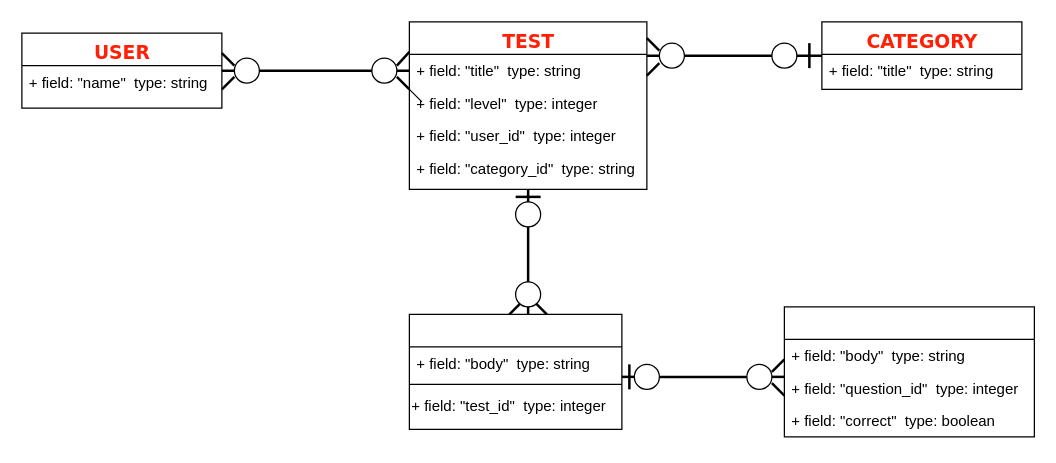
The diagram is 1056 pixels wide and 463 high, and some of its shapes have lost their labels. Each missing label, with the box of its shape:
ANSWER: (783, 306, 1034, 437)
QUESTION: (408, 313, 622, 429)
